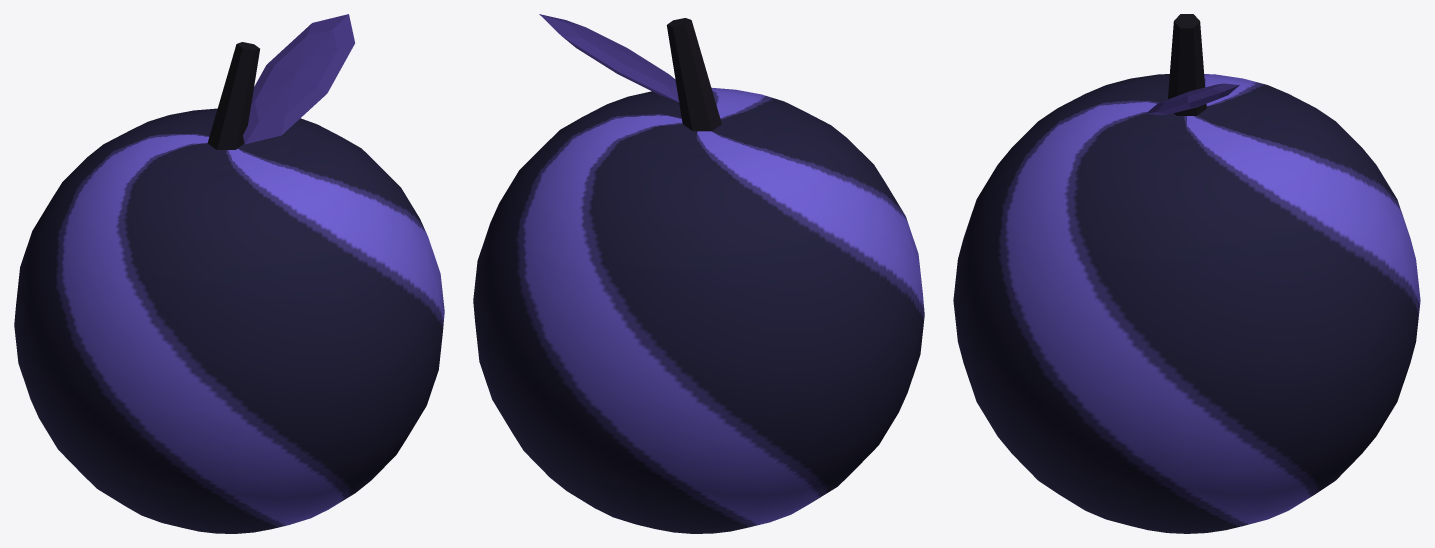
The model's file is Fruit_Ink.fbx.
3 views of the same model, side by side, from view 1: azimuth 30°, elevation 25°; view 2: azimuth 150°, elevation 25°; view 3: azimuth 270°, elevation 25° (orthographic). The views are drawn at different scales.
Visible parts, largest first — view 1: Fruit_Ink; view 2: Fruit_Ink; view 3: Fruit_Ink.
Part boxes in pixels (box(x1,y1,x2,y2)): Fruit_Ink: box(14, 14, 444, 533); Fruit_Ink: box(473, 14, 924, 533); Fruit_Ink: box(953, 14, 1420, 533).
Size of the model in its own units: 1.6 by 1.9 by 1.6.
Materials: 1 (1 with a texture image).
